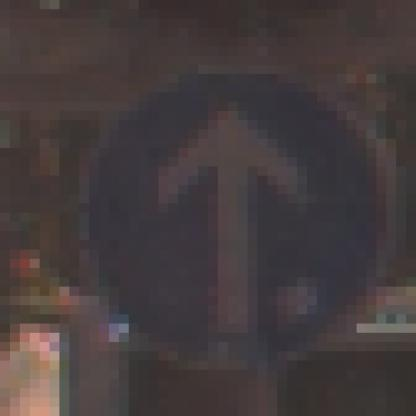AheadOnly: (51, 57, 368, 362)
